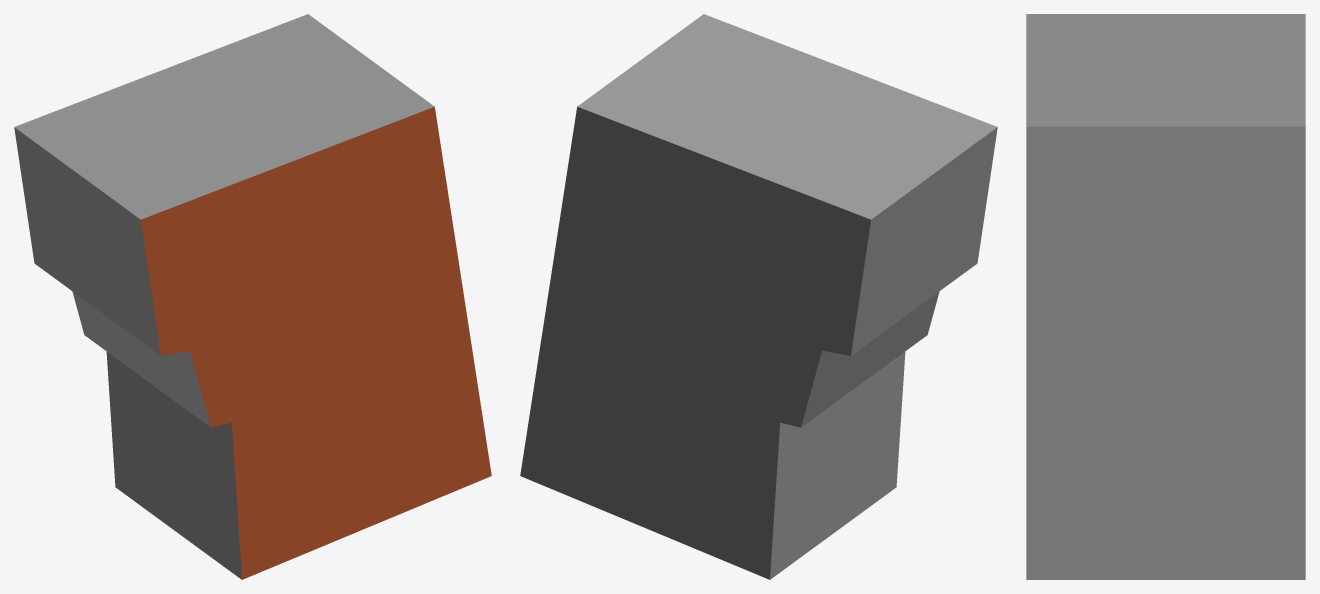
Rendered from construction_4498_assumed_A_Casa_h6m.obj.
3 views of the same model, side by side, from view 1: azimuth 30°, elevation 25°; view 2: azimuth 150°, elevation 25°; view 3: azimuth 270°, elevation 25° (orthographic). The views are drawn at different scales.
Visible parts, largest first — view 1: construction_4498_assumed_A_Casa; view 2: construction_4498_assumed_A_Casa; view 3: construction_4498_assumed_A_Casa.
Boxes of the visible parts, box(x1,y1,x2,y2) form: construction_4498_assumed_A_Casa: box(14, 14, 491, 579); construction_4498_assumed_A_Casa: box(520, 14, 997, 579); construction_4498_assumed_A_Casa: box(1026, 14, 1305, 579).
Size of the model in its own units: 9.6 by 11.14 by 6.
